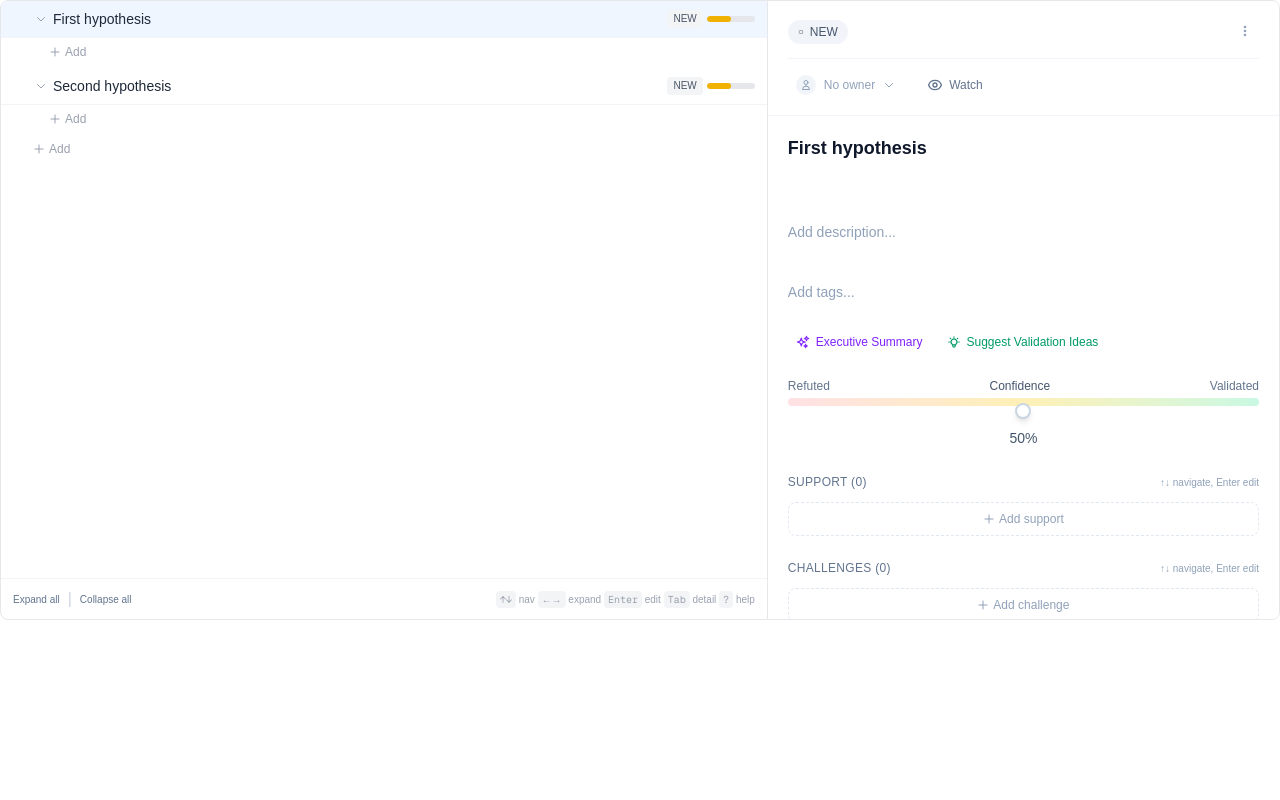
Test: SplitView › Selection Flow › updates detail pane when different hypothesis is selected
Check: the text box showing "First hypothesis" is shown, box [788, 136, 1259, 186]
// Click second hypothesis
Click the text "Second hypothesis": (112, 86) [53, 76, 171, 96]
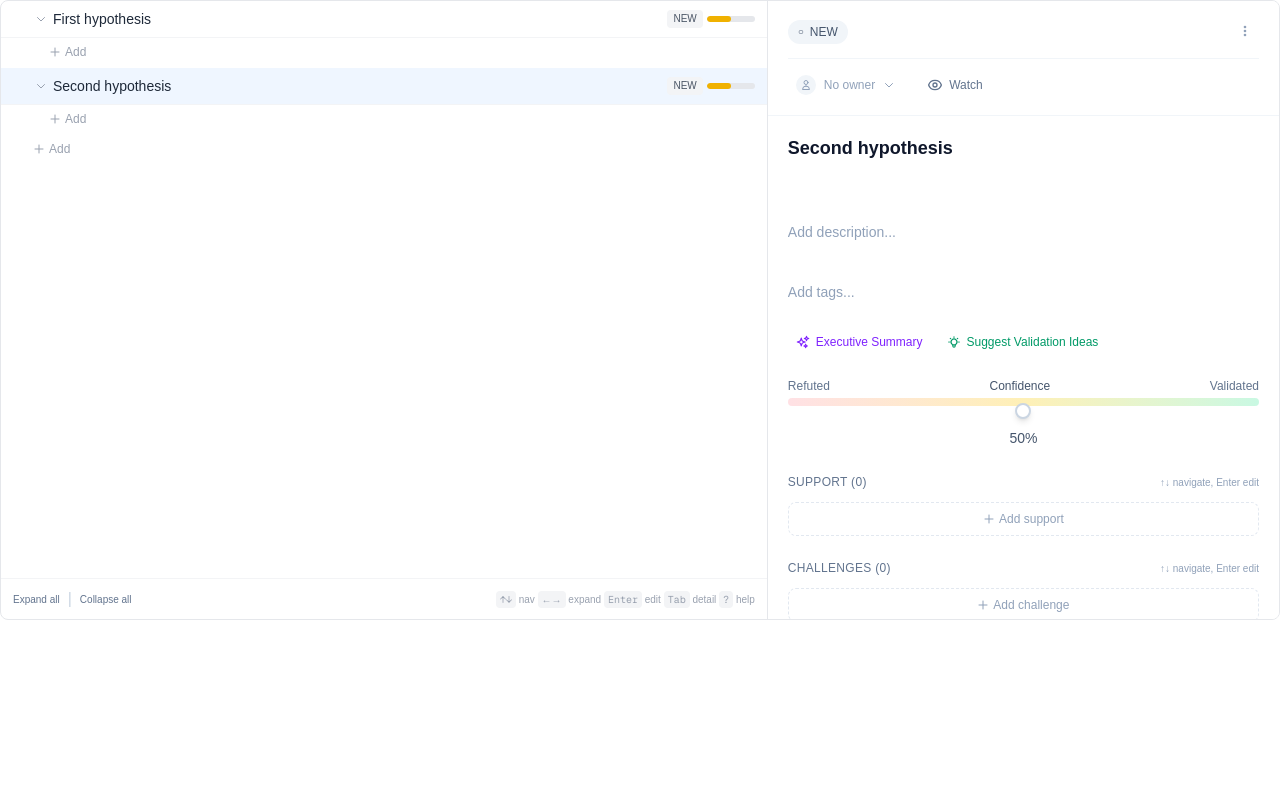
Check: the text box showing "Second hypothesis" is shown, box [788, 136, 1259, 186]
